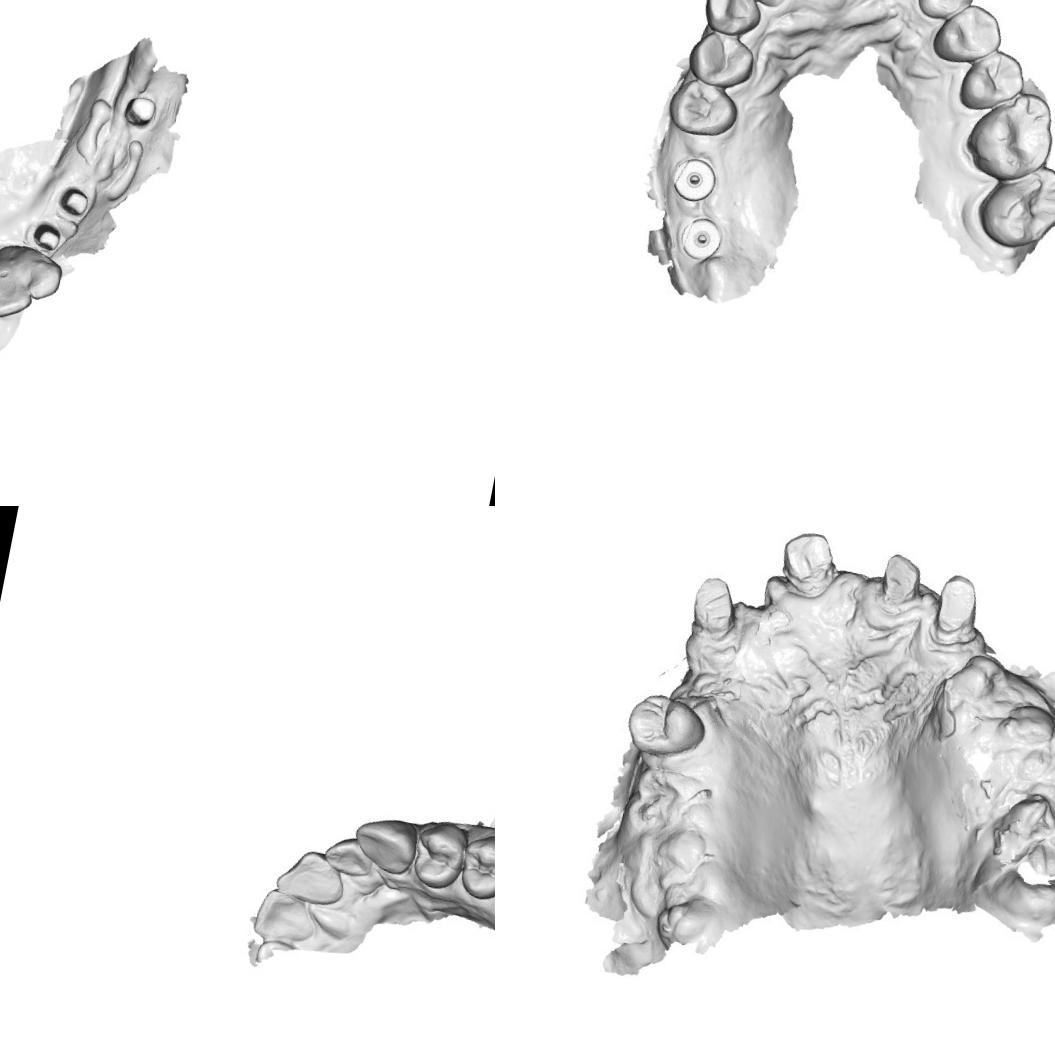abutment: (121, 92, 158, 132), (56, 184, 91, 218), (30, 218, 62, 253)
canine: (347, 810, 421, 878), (696, 0, 768, 40), (20, 252, 64, 304), (909, 0, 979, 25)
crown: (780, 524, 842, 600), (690, 570, 750, 635), (875, 549, 928, 608), (936, 572, 986, 632)
implant: (664, 152, 726, 206), (676, 212, 724, 262)
incisor: (271, 842, 352, 910), (248, 882, 324, 949), (318, 831, 378, 882), (0, 267, 36, 323)
molar: (960, 80, 1055, 186), (972, 154, 1055, 255)
premolar: (623, 688, 709, 763), (678, 24, 760, 95), (404, 813, 475, 895), (928, 0, 1008, 71), (955, 42, 1029, 115), (663, 75, 742, 142), (452, 825, 495, 902)
